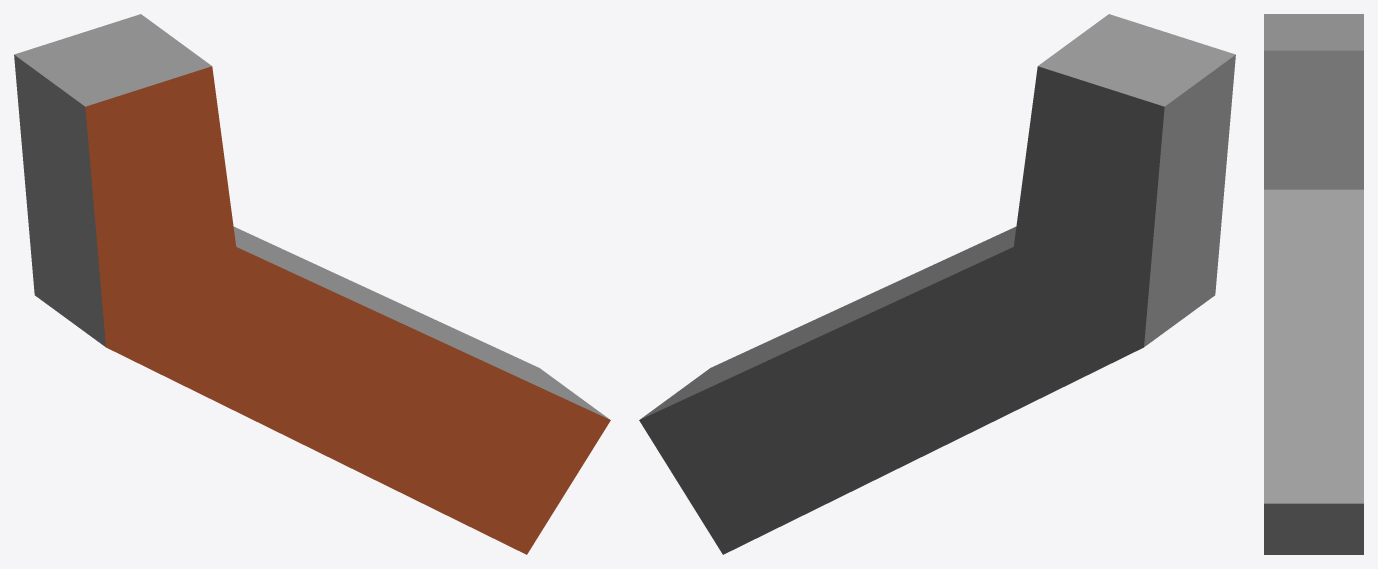
The model's file is construction_0317_assumed_A_Casa_h6m.obj.
3 renders of one model, left to right at view 1: azimuth 30°, elevation 25°; view 2: azimuth 150°, elevation 25°; view 3: azimuth 270°, elevation 25°, orthographic. The views are drawn at different scales.
Visible parts, largest first — view 1: construction_0317_assumed_A_Casa; view 2: construction_0317_assumed_A_Casa; view 3: construction_0317_assumed_A_Casa.
Boxes of the visible parts, x1,y1,x2,y2 form: construction_0317_assumed_A_Casa: [14, 14, 610, 554]; construction_0317_assumed_A_Casa: [639, 14, 1235, 554]; construction_0317_assumed_A_Casa: [1264, 14, 1363, 554].
Size of the model in its own units: 25.54 by 26.26 by 6.
